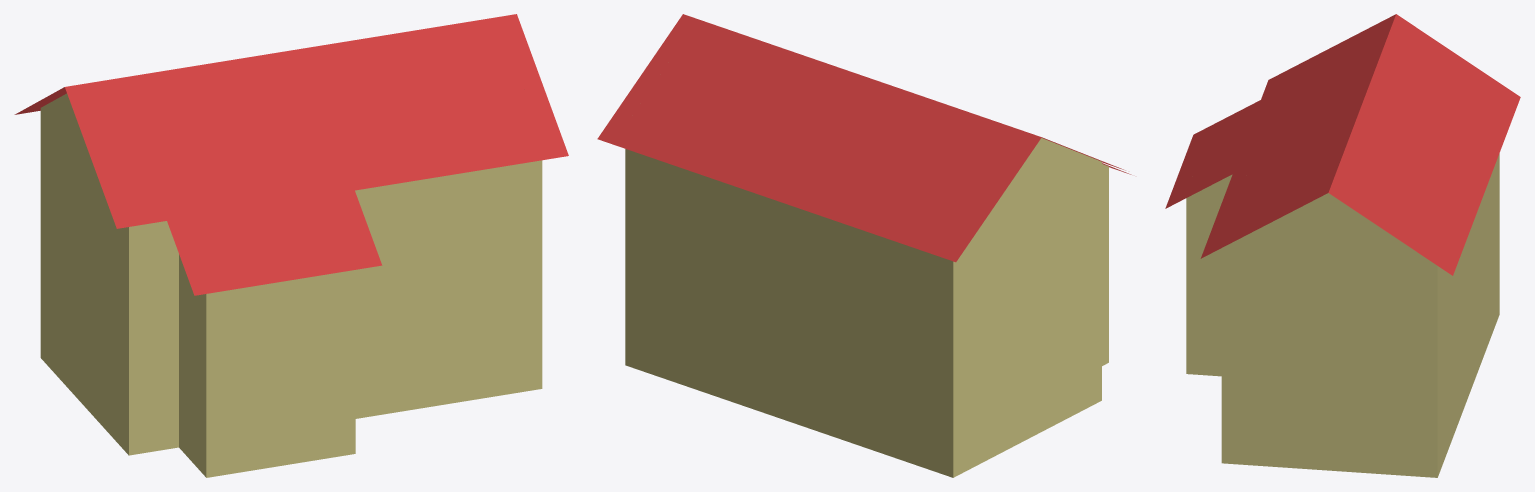
3 renders of one model, left to right at view 1: azimuth 30°, elevation 25°; view 2: azimuth 150°, elevation 25°; view 3: azimuth 270°, elevation 25°, orthographic. The views are drawn at different scales.
Bounding box in the file's own units: 25.21 × 19.33 × 17.13.
